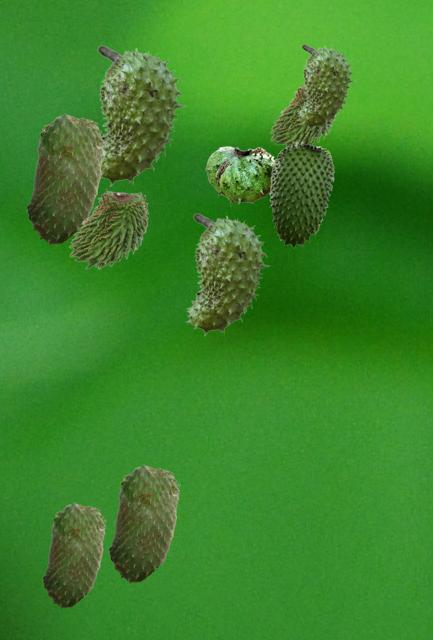guyabano: (97, 45, 185, 186), (26, 113, 104, 245), (185, 213, 269, 335), (108, 464, 179, 583), (269, 141, 333, 247), (42, 502, 105, 608), (68, 188, 148, 268), (296, 44, 354, 129), (269, 83, 336, 146), (205, 146, 274, 205)
